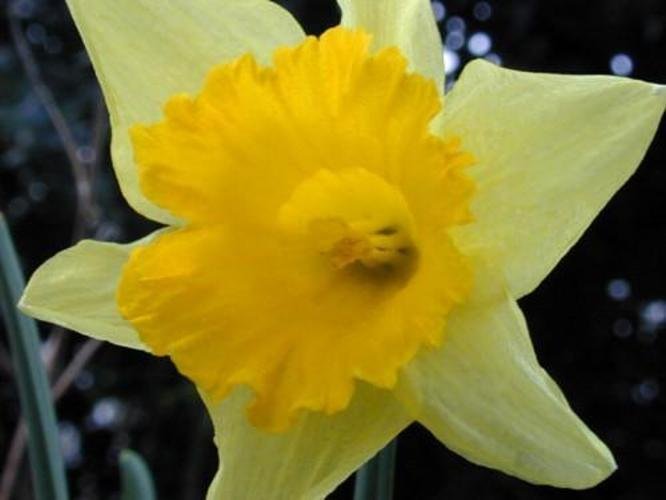flower1: (16, 4, 665, 488)
